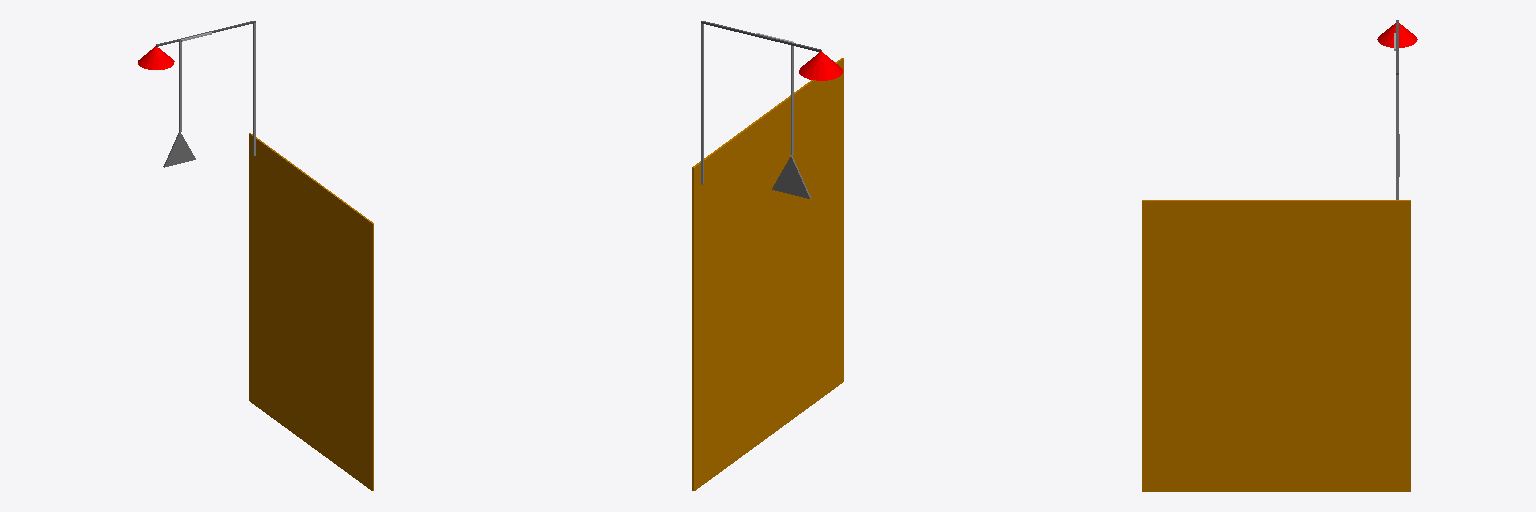
robot.urdf — drc-testbed-shower_fixed:
<?xml version="1.0"?>
<robot name="drc-testbed-shower_fixed"
       xmlns:xi="http://www.w3.org/2001/XInclude"
       >
  <gazebo>
    <static>false</static>
  </gazebo>
  <link name="DRC-TESTBED-SHOWER-BODYSET9_link">
    <visual>
      <origin xyz="0 0 0" rpy="0 -0 0"/>
      <geometry>
        <mesh filename="model://drc-testbed-shower/meshes/DRC-TESTBED-SHOWER-BODYSET9_link_mesh.dae" scale="1 1 1" />
      </geometry>
    </visual>
    <collision>
      <origin xyz="0 0 0" rpy="0 -0 0"/>
      <geometry>
        <mesh filename="model://drc-testbed-shower/meshes/DRC-TESTBED-SHOWER-BODYSET9_link_mesh.dae" scale="1 1 1" />
      </geometry>
    </collision>
    <inertial>
      <mass value="0.001" />
      <origin xyz="0 0 0" rpy="0 -0 0"/>
      <inertia ixx="1e-03" ixy="0" ixz="0" iyy="1e-03" iyz="0" izz="1e-03"/>
    </inertial>
  </link>
  <gazebo reference="DRC-TESTBED-SHOWER-BODYSET9_link">
    <mu1>0.9</mu1>
    <mu2>0.9</mu2>
  </gazebo>
  <link name="DRC-TESTBED-SHOWER-BODYSET165_link">
    <visual>
      <origin xyz="-0.275 0.6 2.385" rpy="0 -0 0"/>
      <geometry>
        <mesh filename="model://drc-testbed-shower/meshes/DRC-TESTBED-SHOWER-BODYSET165_link_mesh.dae" scale="1 1 1" />
      </geometry>
    </visual>
    <collision>
      <origin xyz="-0.275 0.6 2.385" rpy="0 -0 0"/>
      <geometry>
        <mesh filename="model://drc-testbed-shower/meshes/DRC-TESTBED-SHOWER-BODYSET165_link_mesh.dae" scale="1 1 1" />
      </geometry>
    </collision>
    <inertial>
      <mass value="0.001" />
      <origin xyz="0 0 0" rpy="0 -0 0"/>
      <inertia ixx="1e-03" ixy="0" ixz="0" iyy="1e-03" iyz="0" izz="1e-03"/>
    </inertial>
  </link>
  <gazebo reference="DRC-TESTBED-SHOWER-BODYSET165_link">
    <mu1>0.9</mu1>
    <mu2>0.9</mu2>
  </gazebo>
  <link name="DRC-TESTBED-SHOWER-BODYSET186_link">
    <visual>
      <origin xyz="-0.19 0 0" rpy="0 -0 0"/>
      <geometry>
        <mesh filename="model://drc-testbed-shower/meshes/DRC-TESTBED-SHOWER-BODYSET186_link_mesh.dae" scale="1 1 1" />
      </geometry>
    </visual>
    <collision>
      <origin xyz="-0.19 0 0" rpy="0 -0 0"/>
      <geometry>
        <mesh filename="model://drc-testbed-shower/meshes/DRC-TESTBED-SHOWER-BODYSET186_link_mesh.dae" scale="1 1 1" />
      </geometry>
    </collision>
    <inertial>
      <mass value="0.001" />
      <origin xyz="0 0 0" rpy="0 -0 0"/>
      <inertia ixx="1e-03" ixy="0" ixz="0" iyy="1e-03" iyz="0" izz="1e-03"/>
    </inertial>
  </link>
  <gazebo reference="DRC-TESTBED-SHOWER-BODYSET186_link">
    <mu1>0.9</mu1>
    <mu2>0.9</mu2>
  </gazebo>
  <joint name="BAR1-JOINT" type="revolute">
    <parent link="DRC-TESTBED-SHOWER-BODYSET9_link"/>
    <child  link="DRC-TESTBED-SHOWER-BODYSET165_link"/>
    <origin xyz="-0.275 0.6 2.385" rpy="0 -0 0 "/>
    <axis   xyz="0 1 0"/>
    <limit lower="-1.5708" upper="1.5708" effort="100" velocity="0.5" />
    <dynamics damping="0.2" friction="0" />
  </joint>
  <transmission type="pr2_mechanism_model/SimpleTransmission" name="BAR1-JOINT_trans" >
    <actuator name="BAR1-JOINT_motor" />
    <joint name="BAR1-JOINT" />
    <mechanicalReduction>1</mechanicalReduction>
  </transmission>
  <gazebo reference="BAR1-JOINT">
    <cfmDamping>0.4</cfmDamping>
  </gazebo>
  <joint name="BAR2-JOINT" type="revolute">
    <parent link="DRC-TESTBED-SHOWER-BODYSET165_link"/>
    <child  link="DRC-TESTBED-SHOWER-BODYSET186_link"/>
    <origin xyz="-0.19 0 0" rpy="0 -0 0 "/>
    <axis   xyz="0 1 0"/>
    <limit lower="-1.5708" upper="1.5708" effort="100" velocity="0.5" />
    <dynamics damping="0.2" friction="0" />
  </joint>
  <transmission type="pr2_mechanism_model/SimpleTransmission" name="BAR2-JOINT_trans" >
    <actuator name="BAR2-JOINT_motor" />
    <joint name="BAR2-JOINT" />
    <mechanicalReduction>1</mechanicalReduction>
  </transmission>
  <gazebo reference="BAR2-JOINT">
    <cfmDamping>0.4</cfmDamping>
  </gazebo>
  <!-- Used for fixing robot to Gazebo 'base_link' -->
  <link name="world"/>
  <joint name="fixed" type="fixed">
    <parent link="world"/>
    <child link="DRC-TESTBED-SHOWER-BODYSET9_link"/>
  </joint>
</robot>

--- Facts derived from the render (not from the file) ---
3 views of the same robot in one strip: view 1: azimuth 30°, elevation 25°; view 2: azimuth 150°, elevation 25°; view 3: azimuth 270°, elevation 25° (orthographic).
Model drc-testbed-shower_fixed with 4 links and 3 joints (2 revolute, 1 fixed), rooted at world, posed every joint at zero.
Links seen in each view (by area): view 1: DRC-TESTBED-SHOWER-BODYSET9_link, DRC-TESTBED-SHOWER-BODYSET186_link; view 2: DRC-TESTBED-SHOWER-BODYSET9_link, DRC-TESTBED-SHOWER-BODYSET186_link; view 3: DRC-TESTBED-SHOWER-BODYSET9_link.
Boxes of the visible links, x1,y1,x2,y2 form: DRC-TESTBED-SHOWER-BODYSET9_link: (138, 21, 373, 490); DRC-TESTBED-SHOWER-BODYSET186_link: (163, 40, 195, 167); DRC-TESTBED-SHOWER-BODYSET9_link: (692, 21, 843, 490); DRC-TESTBED-SHOWER-BODYSET186_link: (772, 45, 810, 198); DRC-TESTBED-SHOWER-BODYSET9_link: (1142, 20, 1417, 491).
Size in the robot's own frame: 0.725 by 1.36 by 2.29 metres.
3 mesh visuals loaded from 3 distinct referenced files (3 Collada DAE).